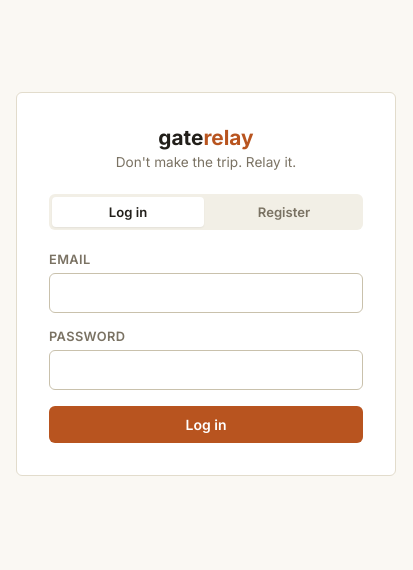
Test: AuthPage › shows the duplicate-email error on failed registration
Click the button "Register" at [284, 212], box [208, 197, 360, 227]
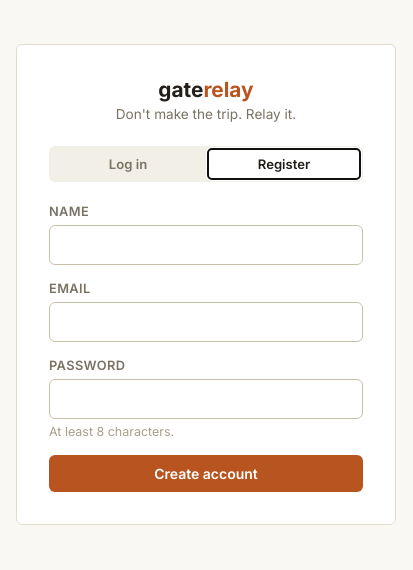
Type "Alice" into the field labelled "Name" at [206, 244], box [49, 224, 363, 264]
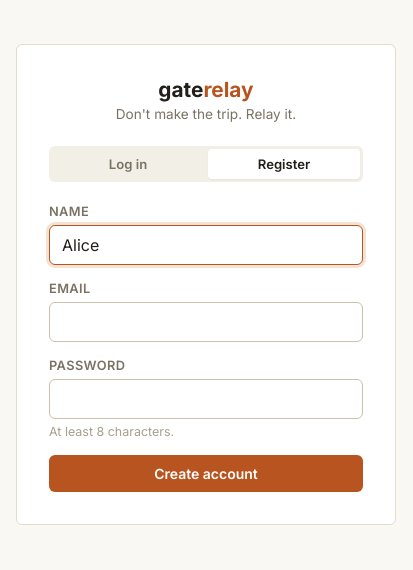
Type "alice@example.com" into the field labelled "Email" at [206, 322], box [49, 302, 363, 342]
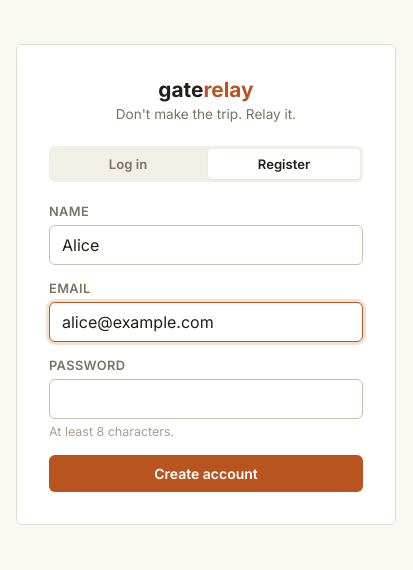
Type "password123" into the password field labelled "Password" at [206, 398], box [49, 378, 363, 418]
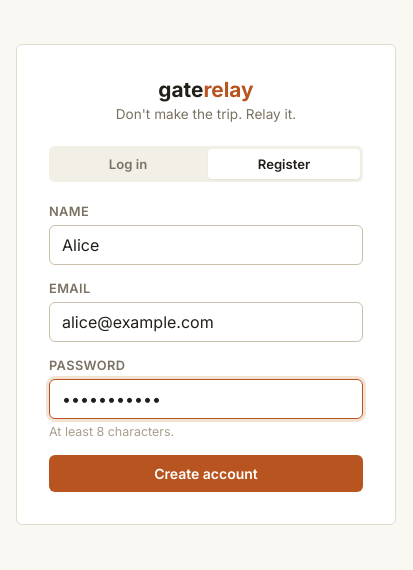
Click the button "Create account" at [206, 473], box [49, 454, 363, 492]
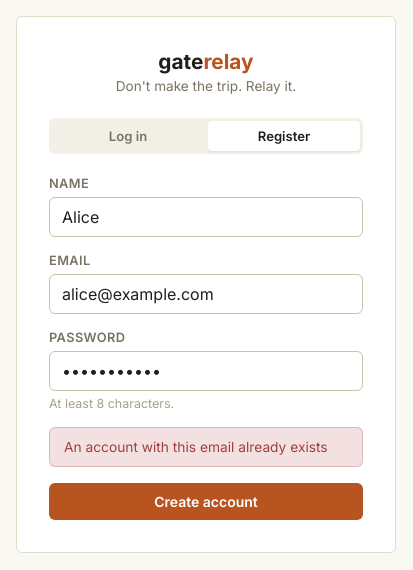
Now the text "An account with this email already exists" is shown, box [49, 426, 363, 466]
